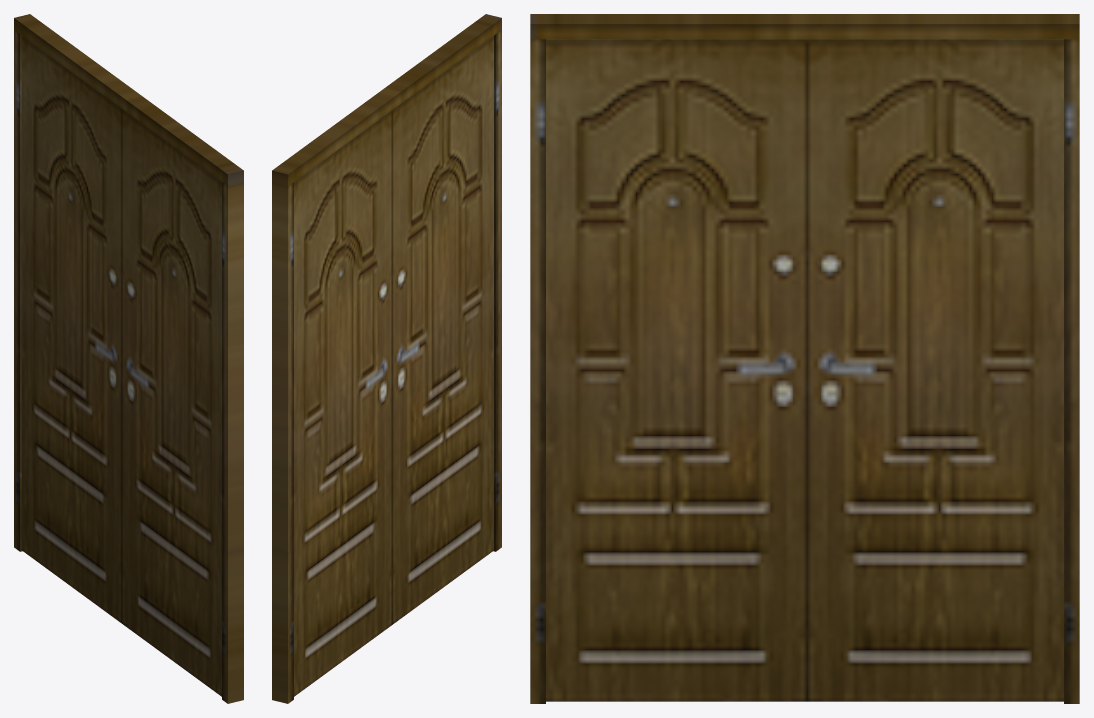
Rendered from Porta-Escola.glb.
3 views of the same model, side by side, from view 1: azimuth 30°, elevation 25°; view 2: azimuth 150°, elevation 25°; view 3: azimuth 270°, elevation 25° (orthographic). The views are drawn at different scales.
Parts seen in each view (by area): view 1: Porta1, Porta2, Base-Porta; view 2: Porta2, Porta1, Base-Porta; view 3: Porta2, Porta1, Base-Porta.
Boxes of the visible parts, x1,y1,x2,y2 form: Porta1: [22, 36, 121, 623]; Porta2: [122, 109, 221, 696]; Base-Porta: [14, 14, 243, 703]; Porta2: [392, 36, 493, 624]; Porta1: [294, 110, 392, 696]; Base-Porta: [272, 14, 501, 703]; Porta2: [546, 39, 806, 701]; Porta1: [806, 39, 1063, 701]; Base-Porta: [530, 14, 1079, 703].
Bounding box in the file's own units: 0.1787 × 5.66 × 4.15.
Materials: 1 (1 with a texture image).
